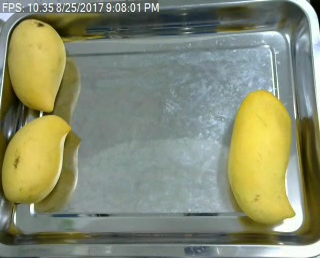Mango: (226, 90, 298, 226), (0, 114, 74, 208), (6, 17, 67, 112)
